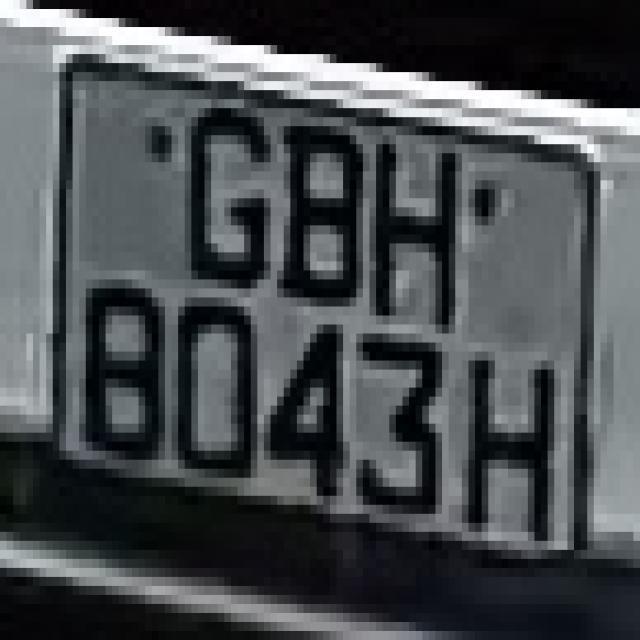0: (152, 261, 257, 487)
3: (356, 297, 449, 532)
4: (257, 288, 343, 532)
8: (72, 234, 172, 505)
B: (271, 72, 376, 325)
G: (165, 54, 277, 316)
H: (455, 297, 581, 577), (363, 81, 468, 352)
